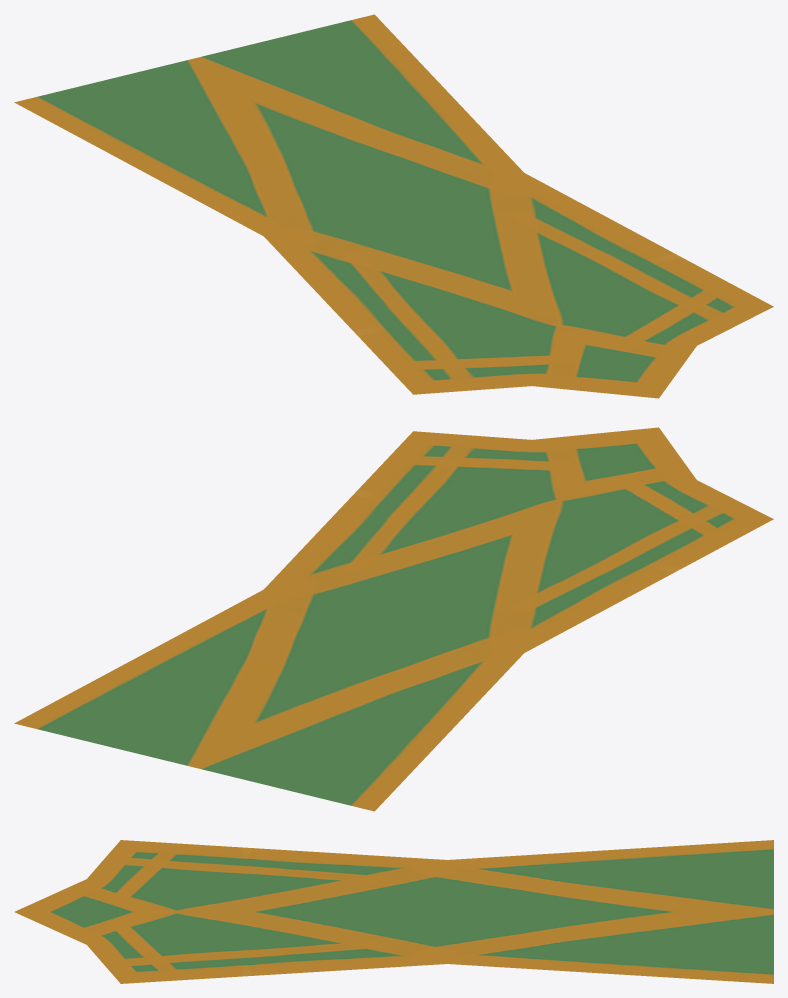
Rendered from sea_etc_16.FBX.
3 renders of one model, top to bottom at view 1: azimuth 30°, elevation 25°; view 2: azimuth 150°, elevation 25°; view 3: azimuth 270°, elevation 25°, orthographic. The views are drawn at different scales.
Visible parts, largest first — view 1: Object068; view 2: Object068; view 3: Object068.
Part boxes in pixels (x1=…): Object068: x1=14, y1=14, x2=773, y2=398; Object068: x1=14, y1=427, x2=773, y2=811; Object068: x1=14, y1=840, x2=773, y2=983.
Size of the model in its own units: 120 by 267 by 4.58e-05.
